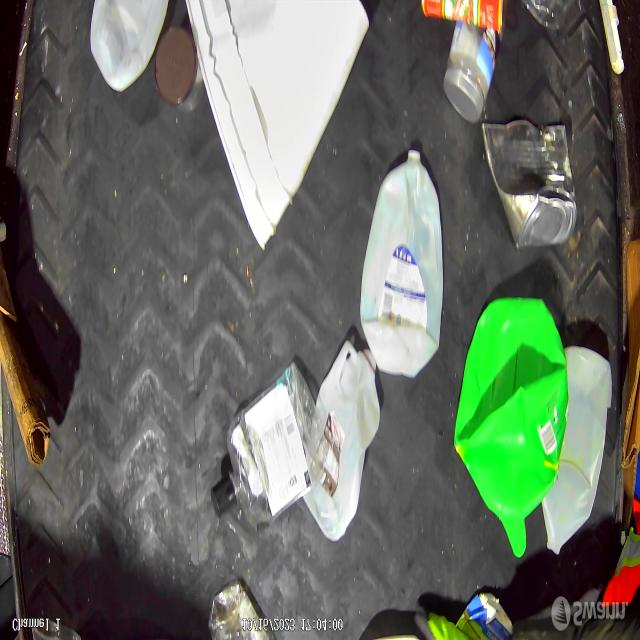can: (482, 118, 574, 260)
milk_jug: (359, 145, 444, 375), (290, 354, 378, 540), (536, 354, 614, 562), (91, 0, 165, 88)
non_white_jug: (456, 296, 566, 558)
plastic_bottle: (203, 374, 319, 526)
